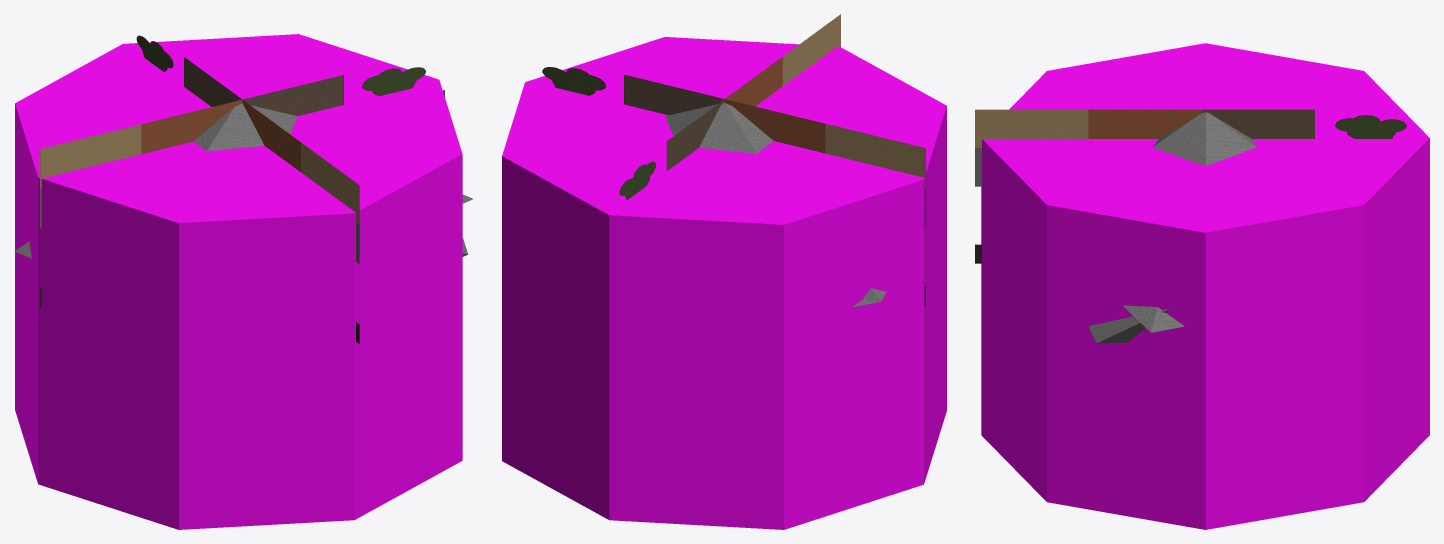
File: rock_med_gray_a.dae
The picture shows the model from 3 angles, left to right: view 1: azimuth 30°, elevation 25°; view 2: azimuth 150°, elevation 25°; view 3: azimuth 270°, elevation 25°; orthographic projection. The views are drawn at different scales.
Parts seen in each view (by area): view 1: Colmesh_rock-1, rock_med_gray_a_a50, rock_med_gray_a_a800; view 2: Colmesh_rock-1, rock_med_gray_a_a50, rock_med_gray_a_a800; view 3: Colmesh_rock-1, rock_med_gray_a_a50, rock_med_gray_a_a800, rock_med_gray_a_a200.
Boxes of the visible parts, <box> form: Colmesh_rock-1: <box>15,34,462,529</box>; rock_med_gray_a_a50: <box>40,35,444,343</box>; rock_med_gray_a_a800: <box>193,100,468,256</box>; Colmesh_rock-1: <box>502,37,946,529</box>; rock_med_gray_a_a50: <box>542,14,925,306</box>; rock_med_gray_a_a800: <box>665,102,773,153</box>; Colmesh_rock-1: <box>981,43,1429,529</box>; rock_med_gray_a_a50: <box>975,109,1406,263</box>; rock_med_gray_a_a800: <box>1088,112,1256,343</box>; rock_med_gray_a_a200: <box>1123,305,1184,332</box>.
Size of the model in its own units: 1.19 by 1.19 by 0.9387.
Materials: 2 (1 with a texture image).
